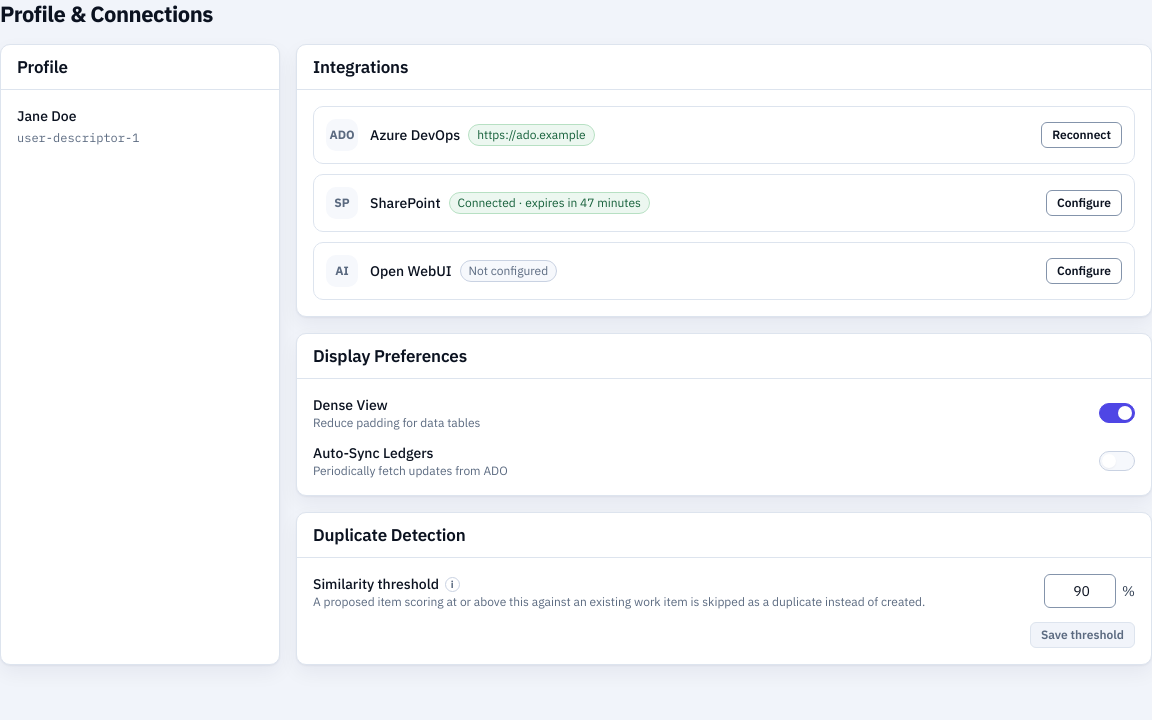
Scenario: Settings › Duplicate Detection threshold (NEW-07) › saves the edited percentage back as a 0-1 fraction
The image size is (1152, 720).
Replace the text in the number field named "similarity threshold percentage" with "94" at (1080, 591), box [1044, 574, 1116, 608]
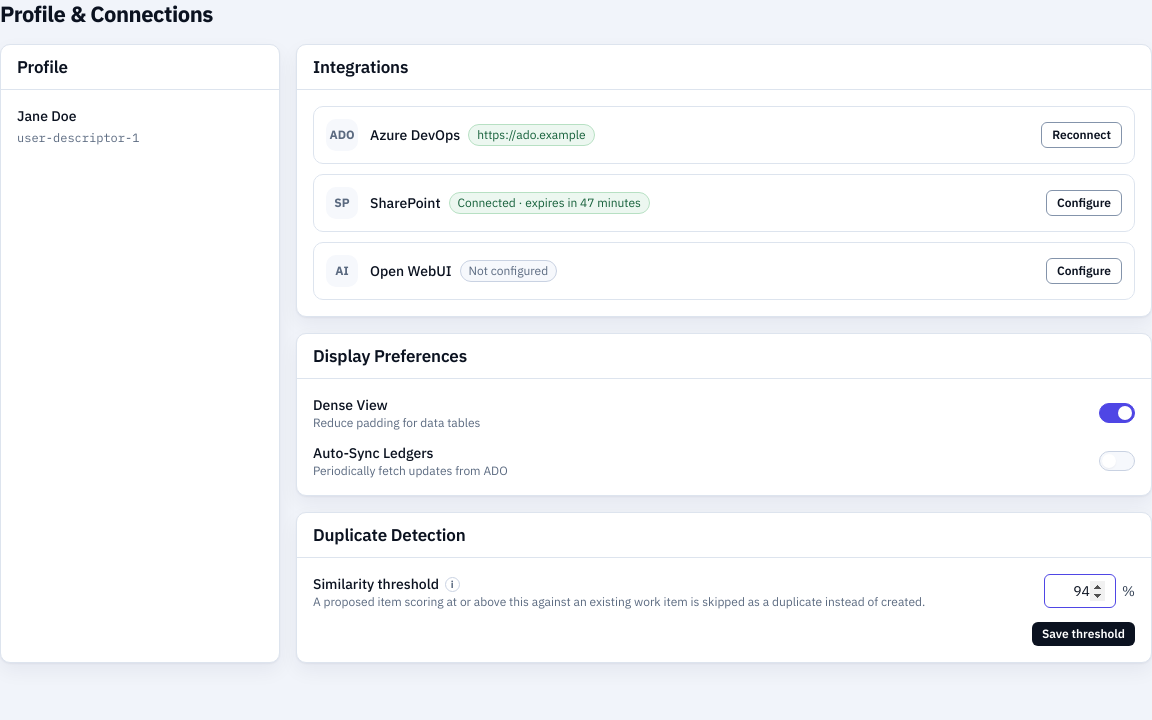
Click the button "Save threshold" at (1083, 634), box [1032, 622, 1135, 646]
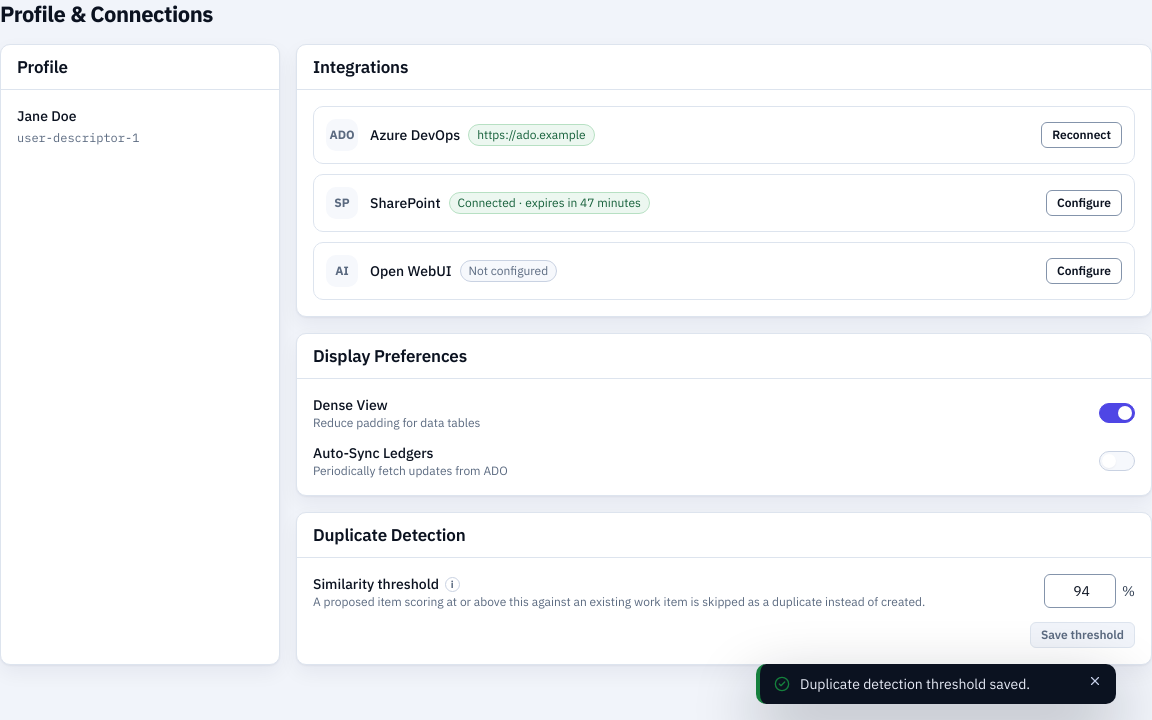
Expected: the text "Duplicate detection threshold saved." is shown, [800, 675, 1030, 693]
